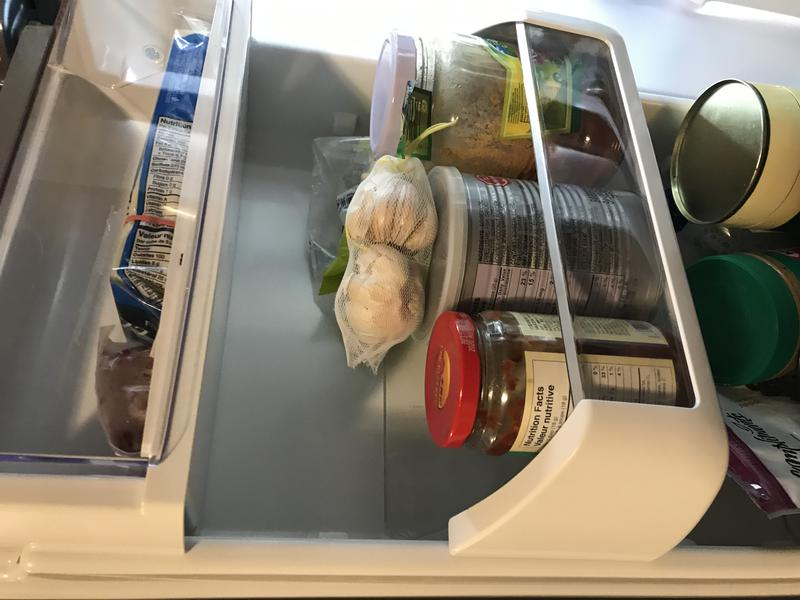garlic: (330, 243, 436, 366), (342, 159, 444, 252)
